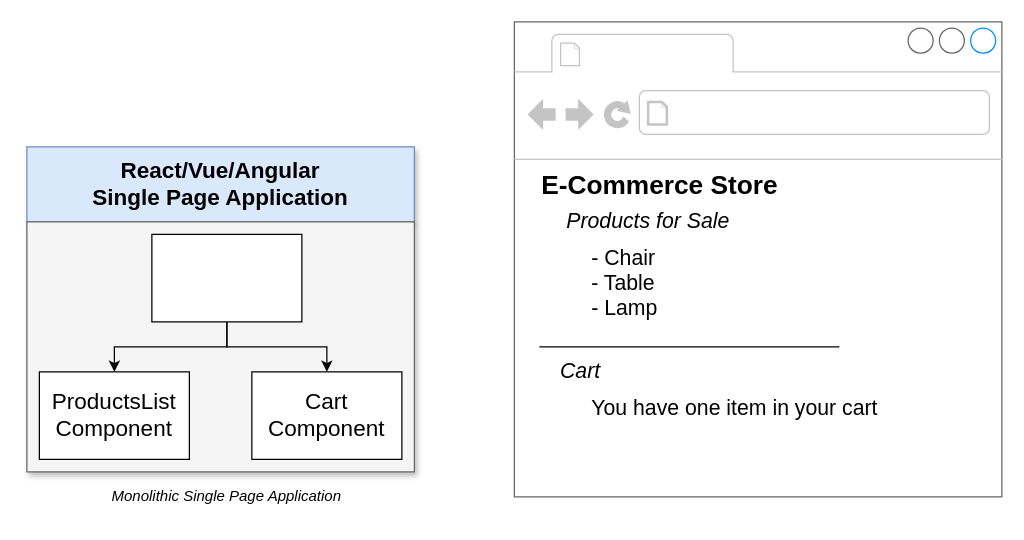
Some shapes in this 1024 by 540 pixel diagram are drawn without their labels. Here are the shapes that lost their labels. From the top down, the centre of each, then its label:
(x=657, y=52): Page 1
(x=226, y=277): App Component
